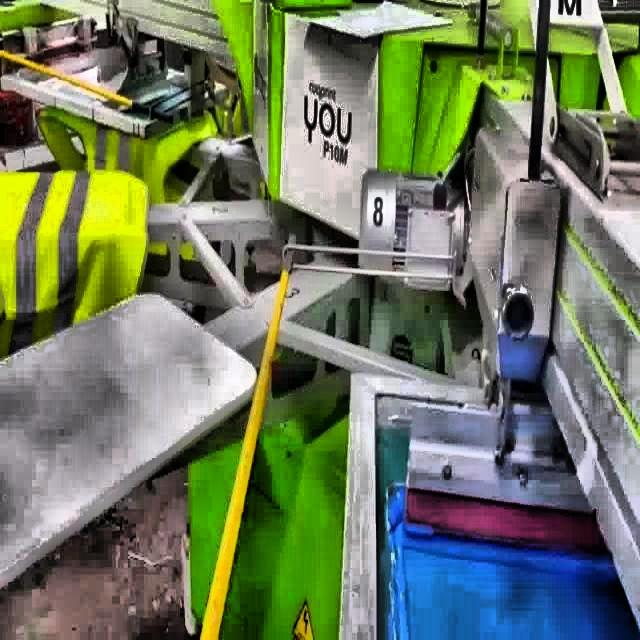safety_jacket: (0, 163, 152, 363)
